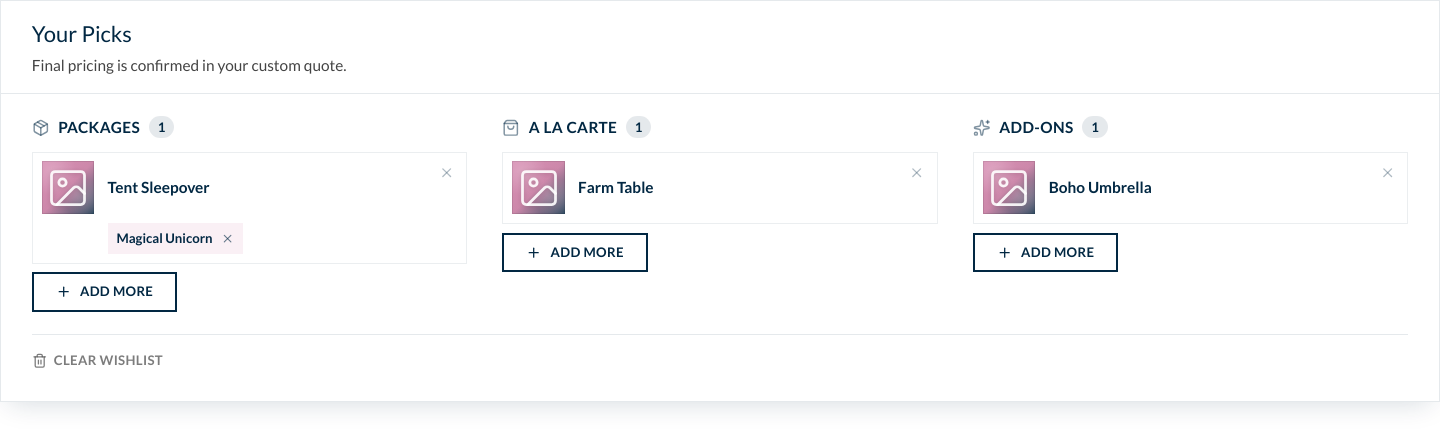
Test: WishlistPanel › lets the visitor back out of clearing the wishlist
The image size is (1440, 429).
What coordinates should you click on to do the following:
click the button "Clear wishlist"
I would click on:
 (97, 361)
Its box is x1=32 y1=343 x2=163 y2=378.
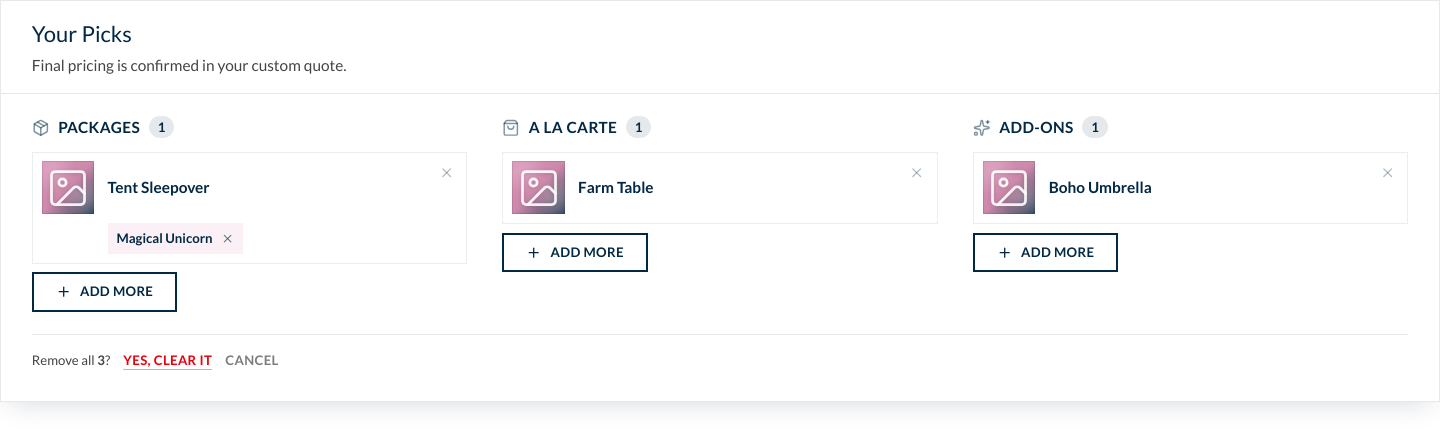
What coordinates should you click on to do the following:
click the button "Cancel"
I would click on:
 (252, 361)
Its box is x1=225 y1=343 x2=279 y2=378.
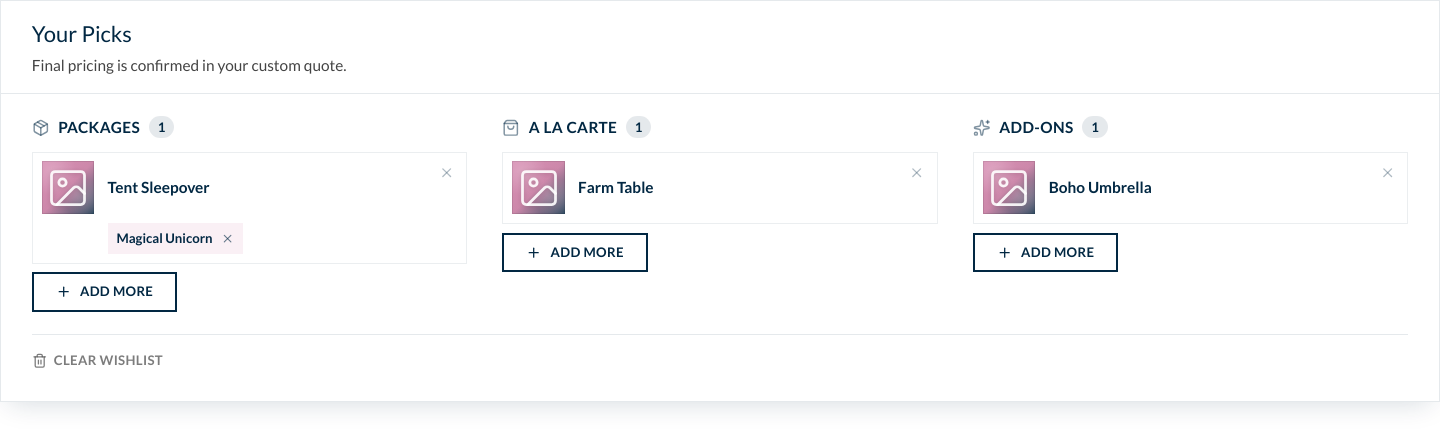
expect the button "Clear wishlist" is shown: met, box x1=32 y1=343 x2=163 y2=378
